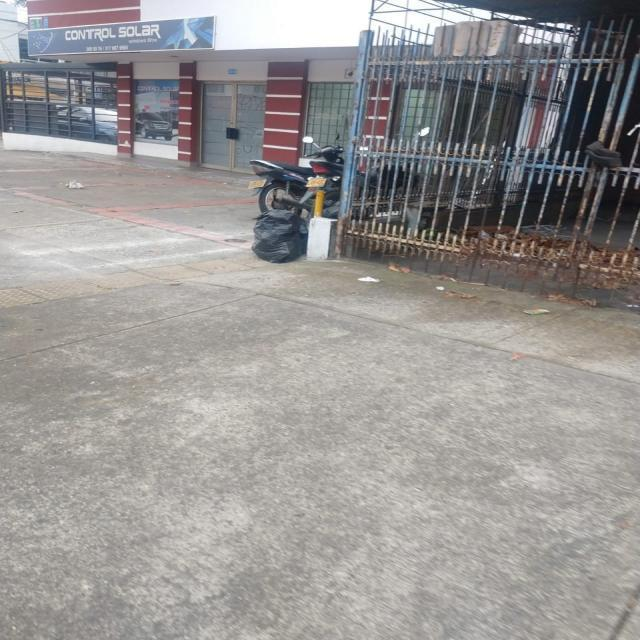Trashbag: (250, 208, 308, 269)
